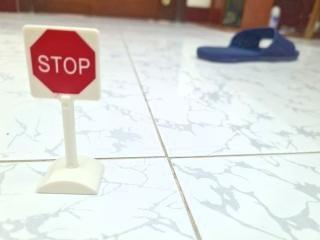stop: (20, 20, 105, 106)
